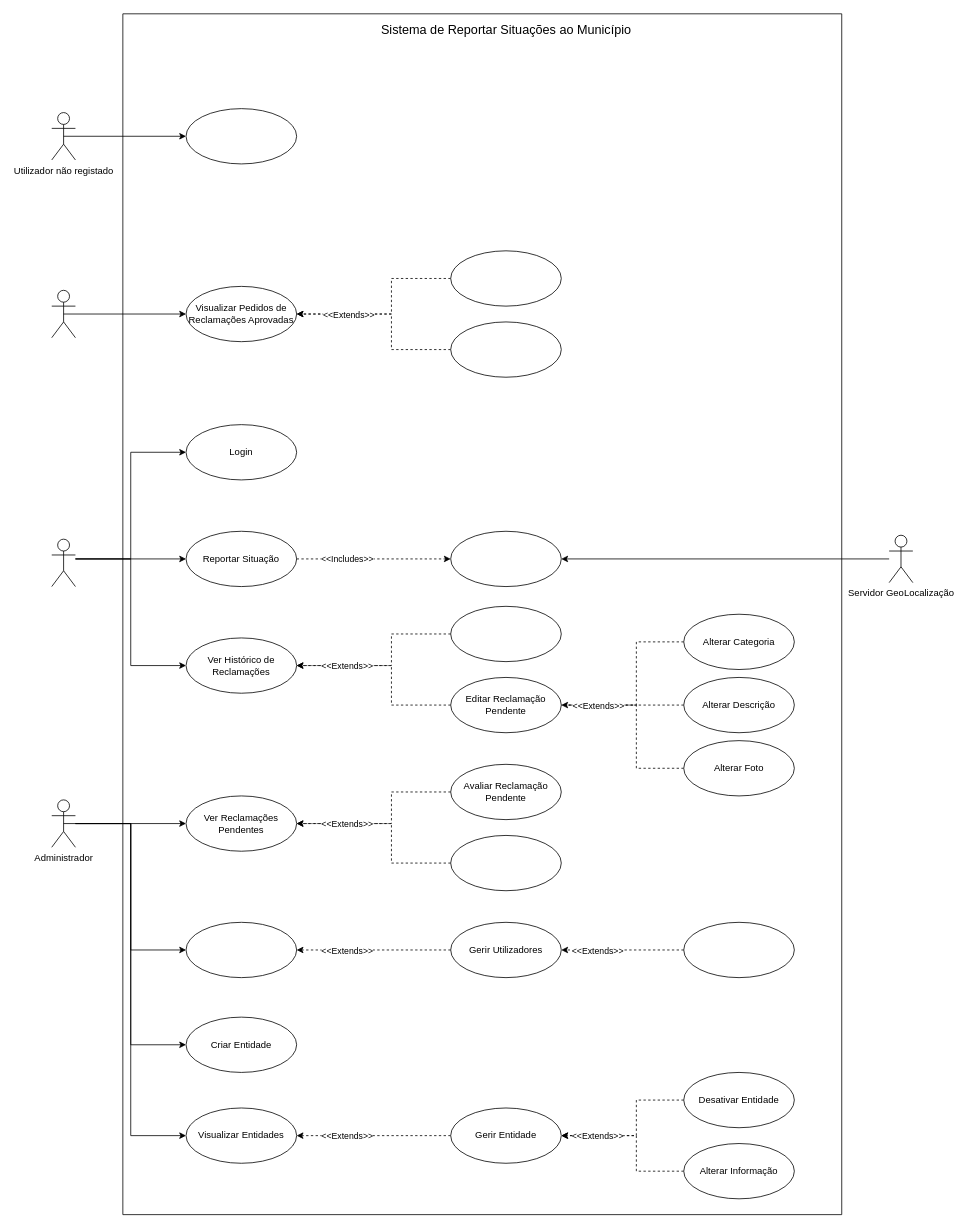
Some shapes in this 967 by 1228 pixel diagram are drawn without their labels. The shapes that lost their labels are listed below. From the top down, each one's box as (x1, y1, x2, y2) in pixels, then its label:
(185, 108, 297, 164): Registar
(450, 250, 561, 306): Iniciar Processo de Resolução de Reclamação
(51, 290, 75, 338): Entidade Resolvedora
(450, 321, 561, 377): Terminar processo
(51, 538, 75, 587): Utilizador
(450, 530, 561, 587): Obter Localização
(450, 606, 561, 662): Cancelar Reclamação Pendente
(450, 835, 561, 891): Finalizar Processo de Reclamação
(185, 922, 297, 978): Visualizar Utilizadores
(683, 922, 794, 978): Restringir Acesso
